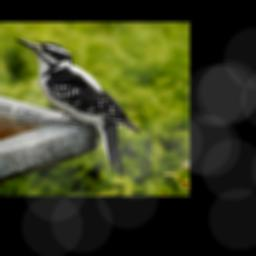Woodpecker: (13, 34, 140, 179)
